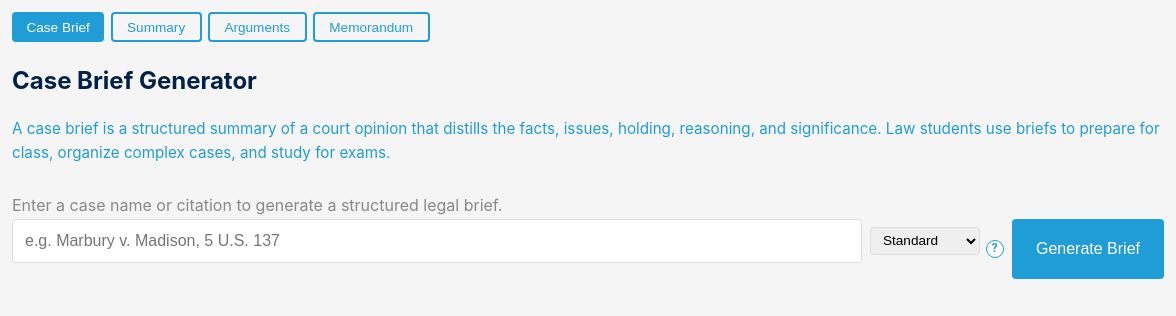
Test: DraftingView › switches to the Memorandum tab and back to Case Brief
Click the button "Memorandum". click: click(371, 27)
box: [313,12,430,42]
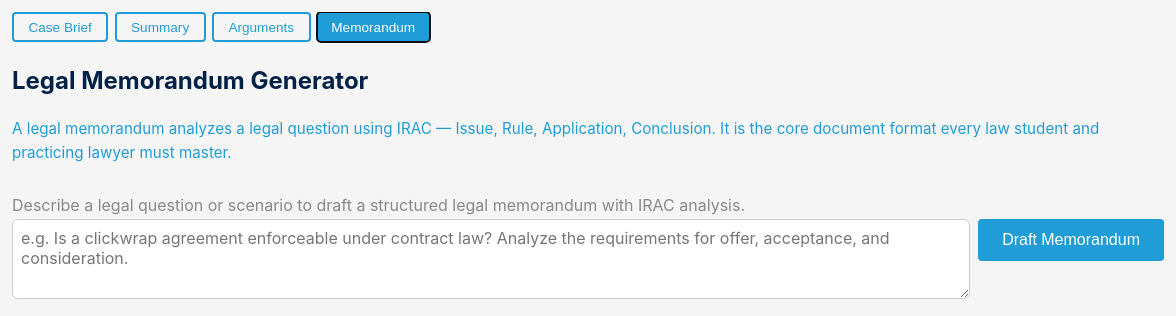
Check: the heading "Legal Memorandum Generator" is shown, box [12,66,368,95]
Click the button "Case Brief". click: click(60, 27)
box: [12,12,108,42]
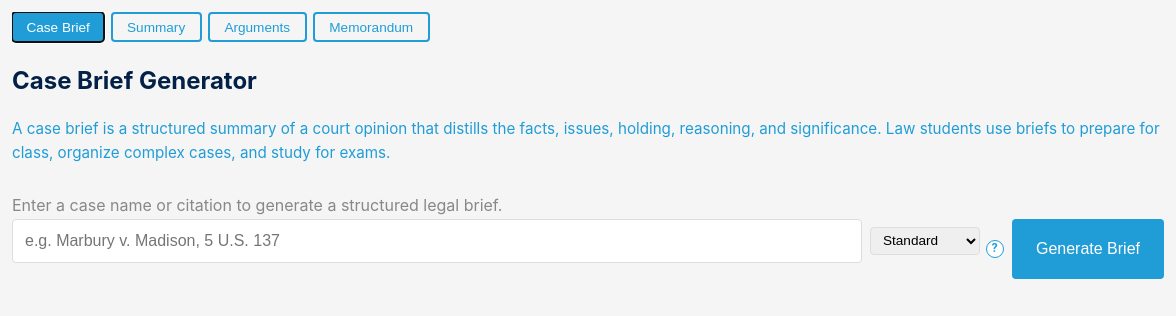
Check: the heading "Case Brief Generator" is shown, box [12,66,257,95]
